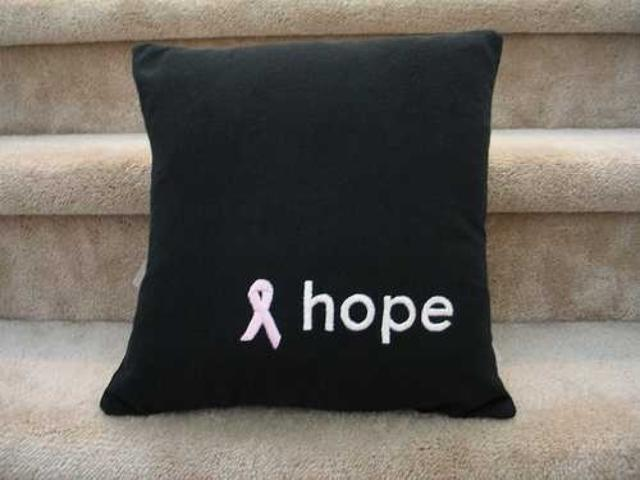pillow: (98, 29, 516, 420)
